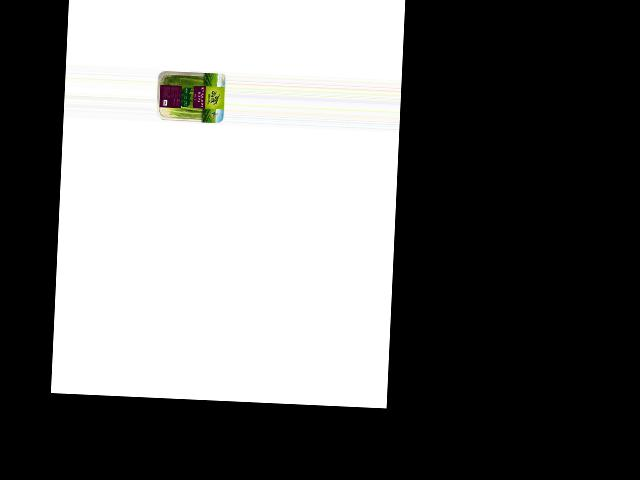lettuce: (155, 70, 220, 124)
